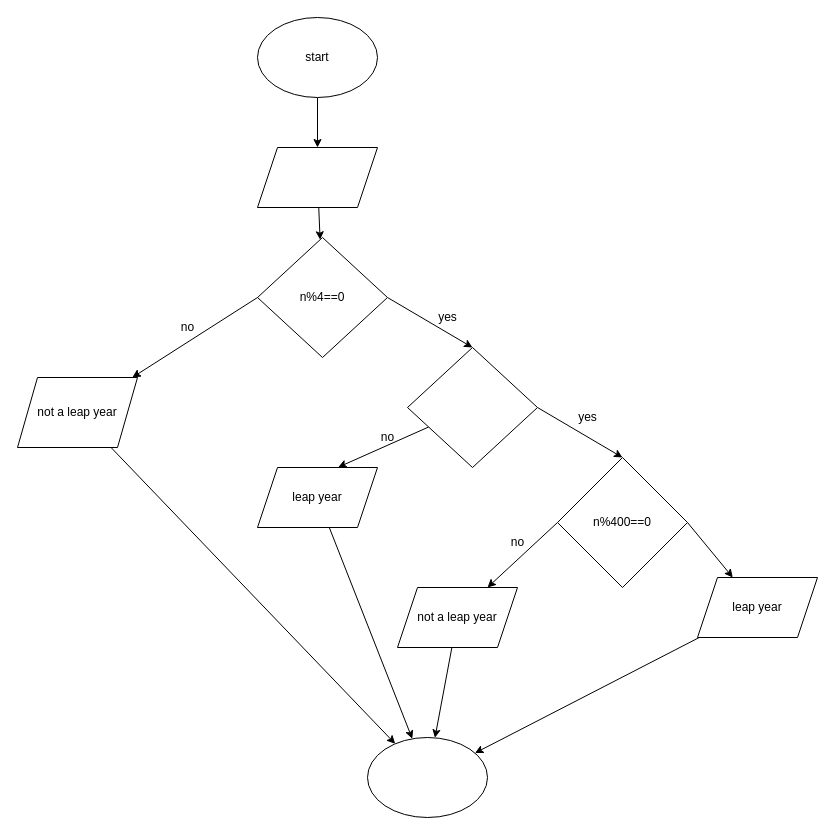
This 835x835 diagram has some shape labels left out. The shapes that lost their labels are listed below. From the top down, each one's centre as x and y in pixels, then its label:
the point at 317,177: take input n
the point at 472,407: n%100==0
the point at 427,777: end
